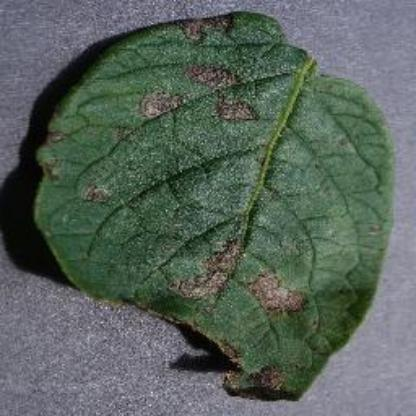Early-Blight: (23, 4, 415, 406)
